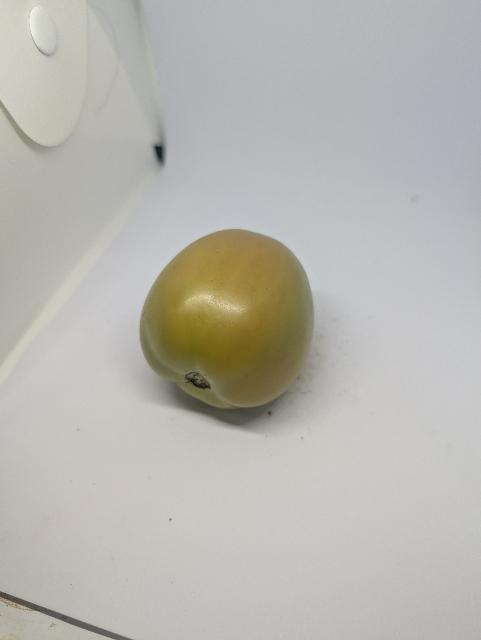breaker: (140, 229, 314, 408)
